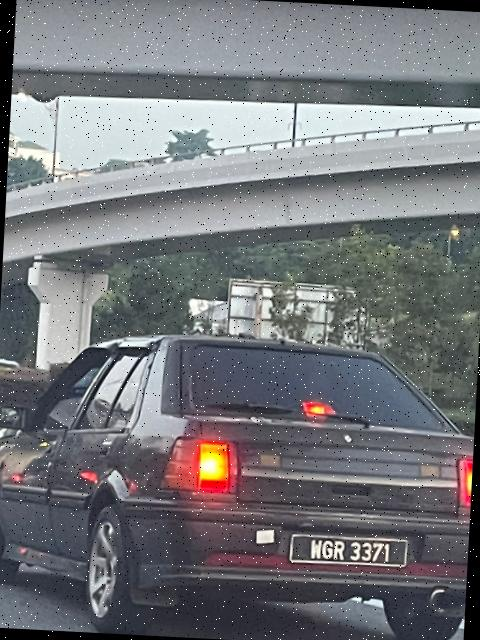License_Plate: (293, 536, 401, 568)
car: (1, 320, 479, 640)
